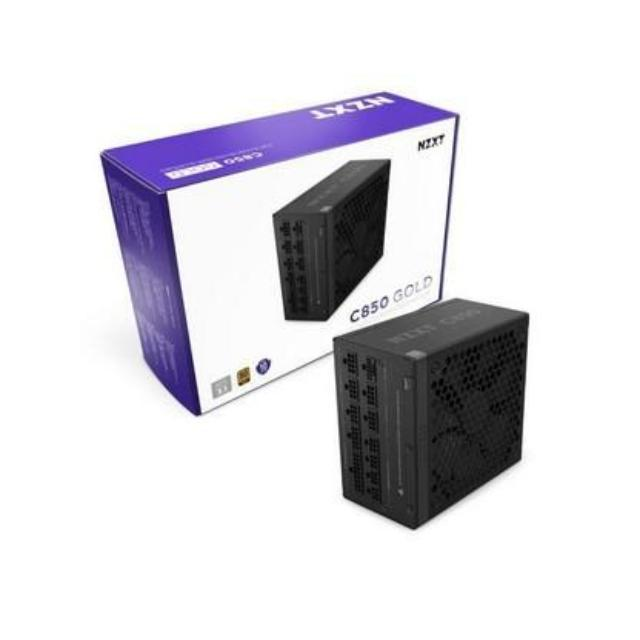PSU: (327, 288, 544, 550)
